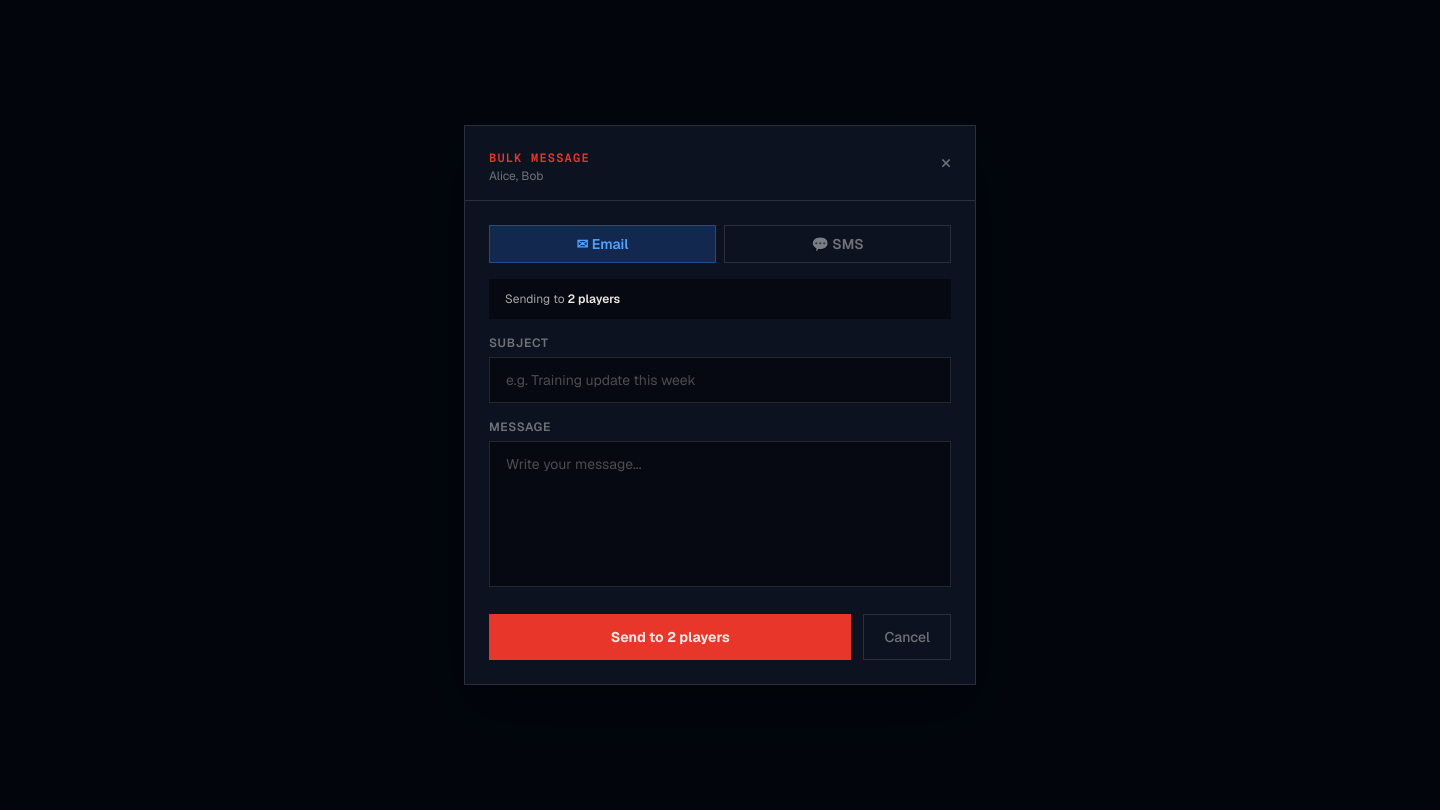
Test: BulkMessageModal › asks for confirmation before sending, and doesn't send until confirmed
Type "Training update" into the field with placeholder "e.g. Training update this week" at x=720, y=380, box [489,357,951,403]
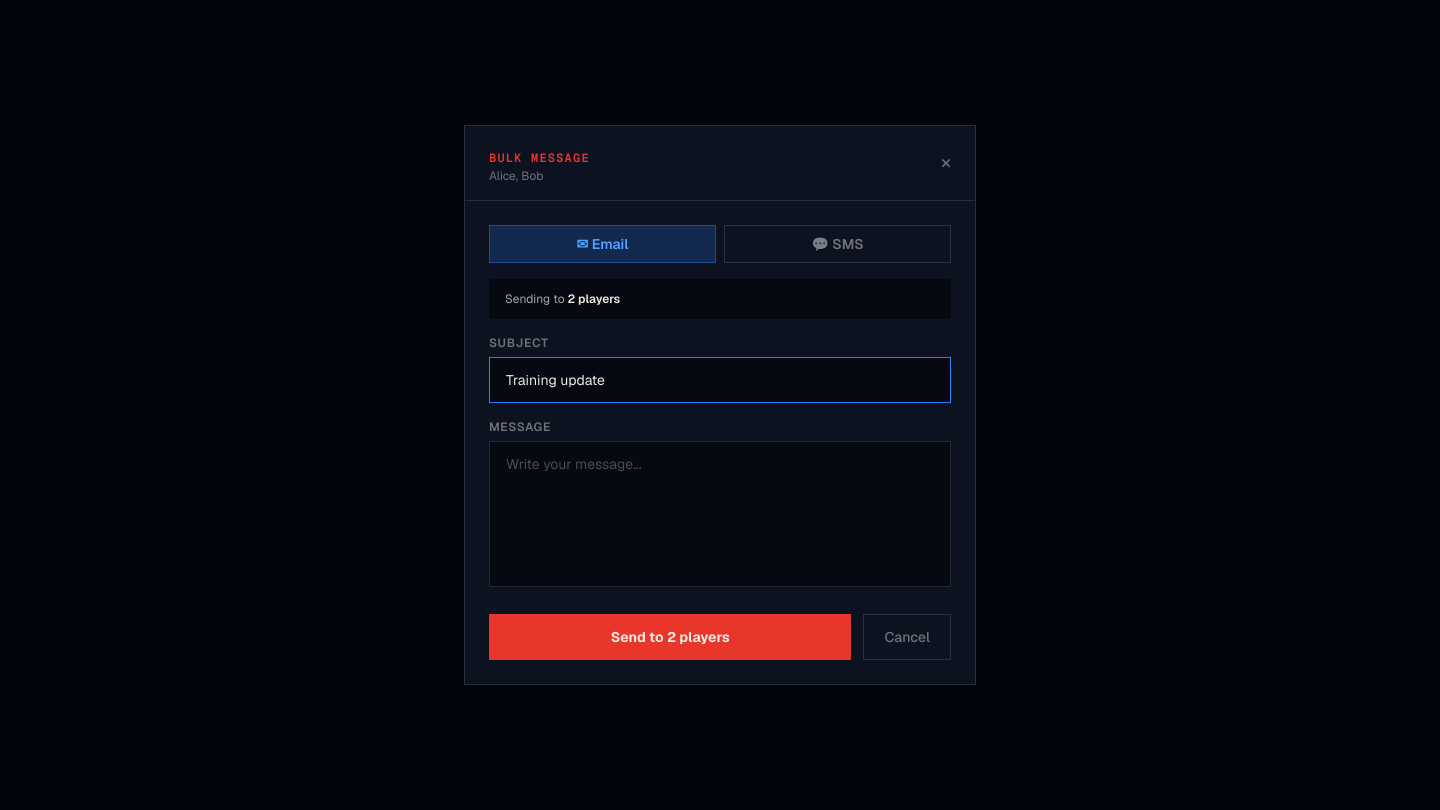
Type "See you Saturday" into the text box with placeholder "Write your message..." at x=720, y=514, box [489,441,951,587]
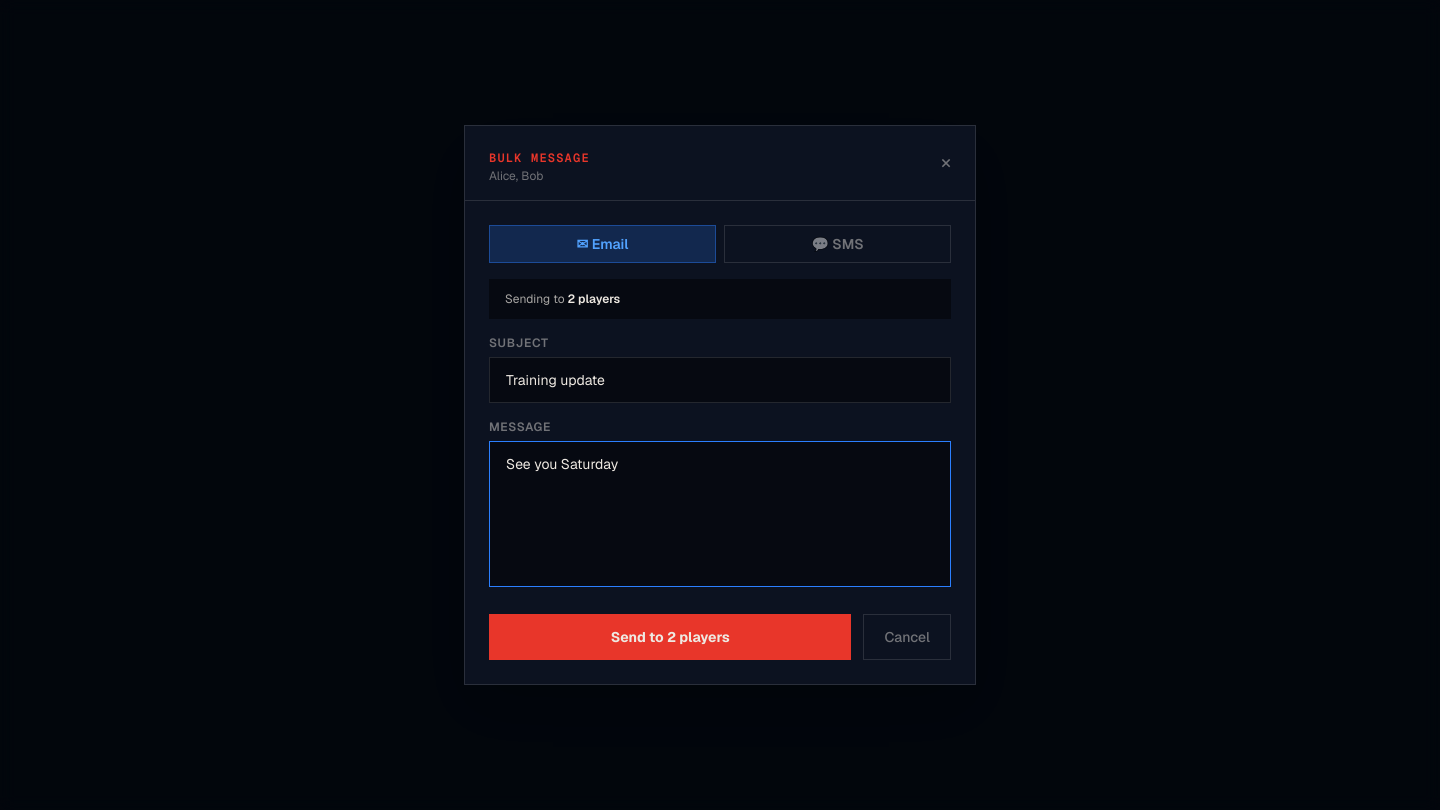
Click the button "Send to 2 players" at x=670, y=637, box [489,614,851,660]
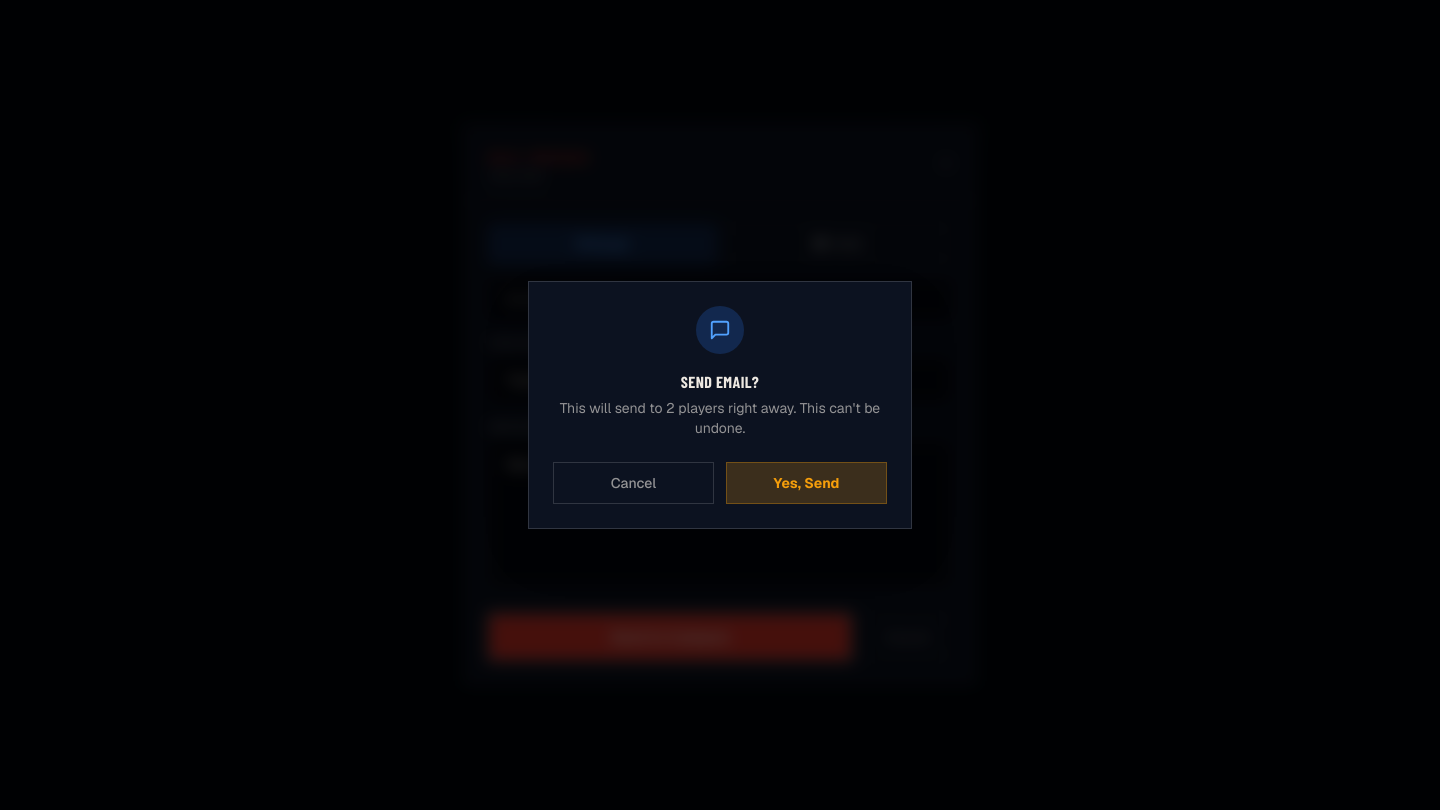
Check: the heading "Send Email?" is shown, box [681,372,759,391]
Check: the text "will send to 2 players" is shown, box [560,399,880,437]
Click the button "Yes, Send" at x=806, y=483, box [726,462,887,504]
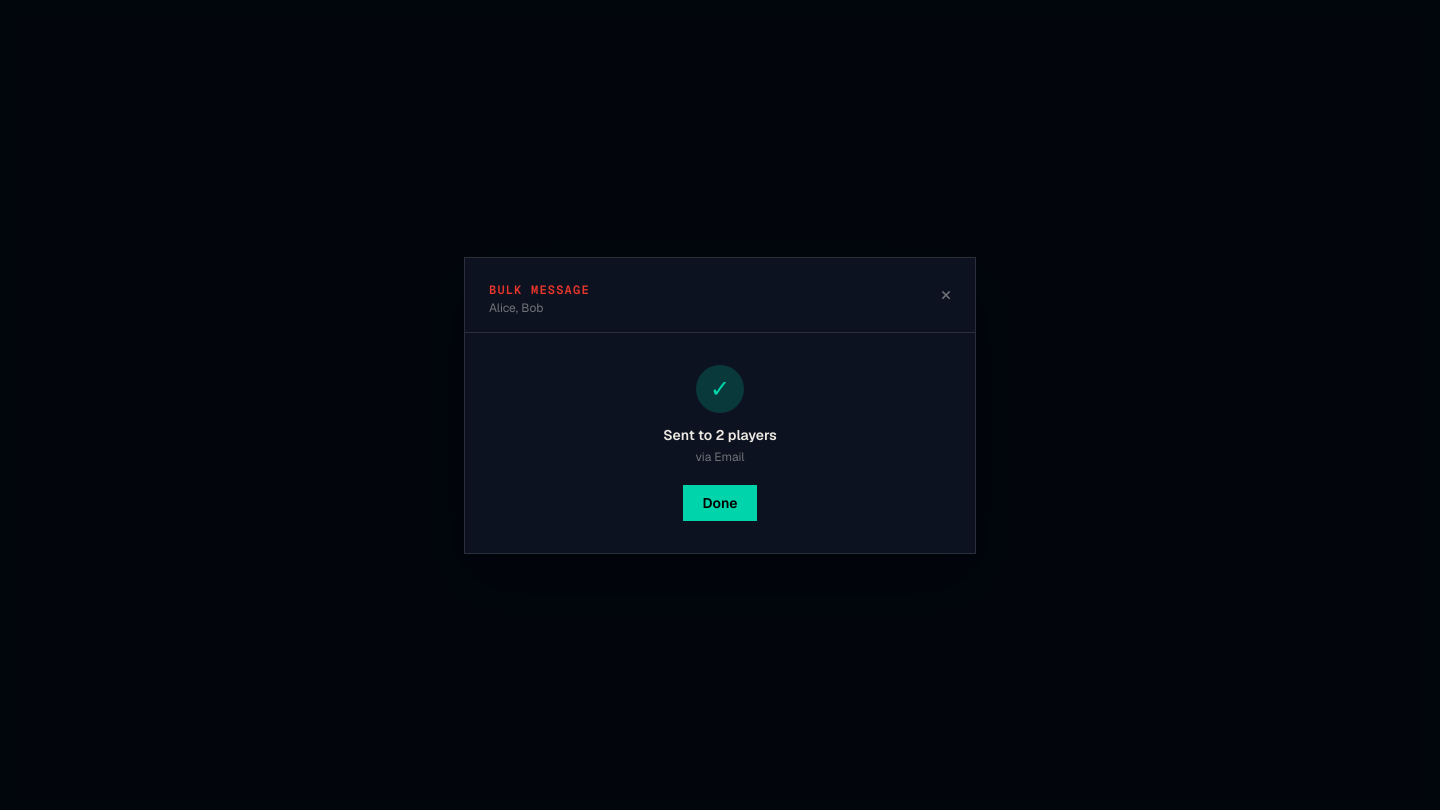
Check: the text "Sent to 2 players" is shown, box [663,426,777,444]
